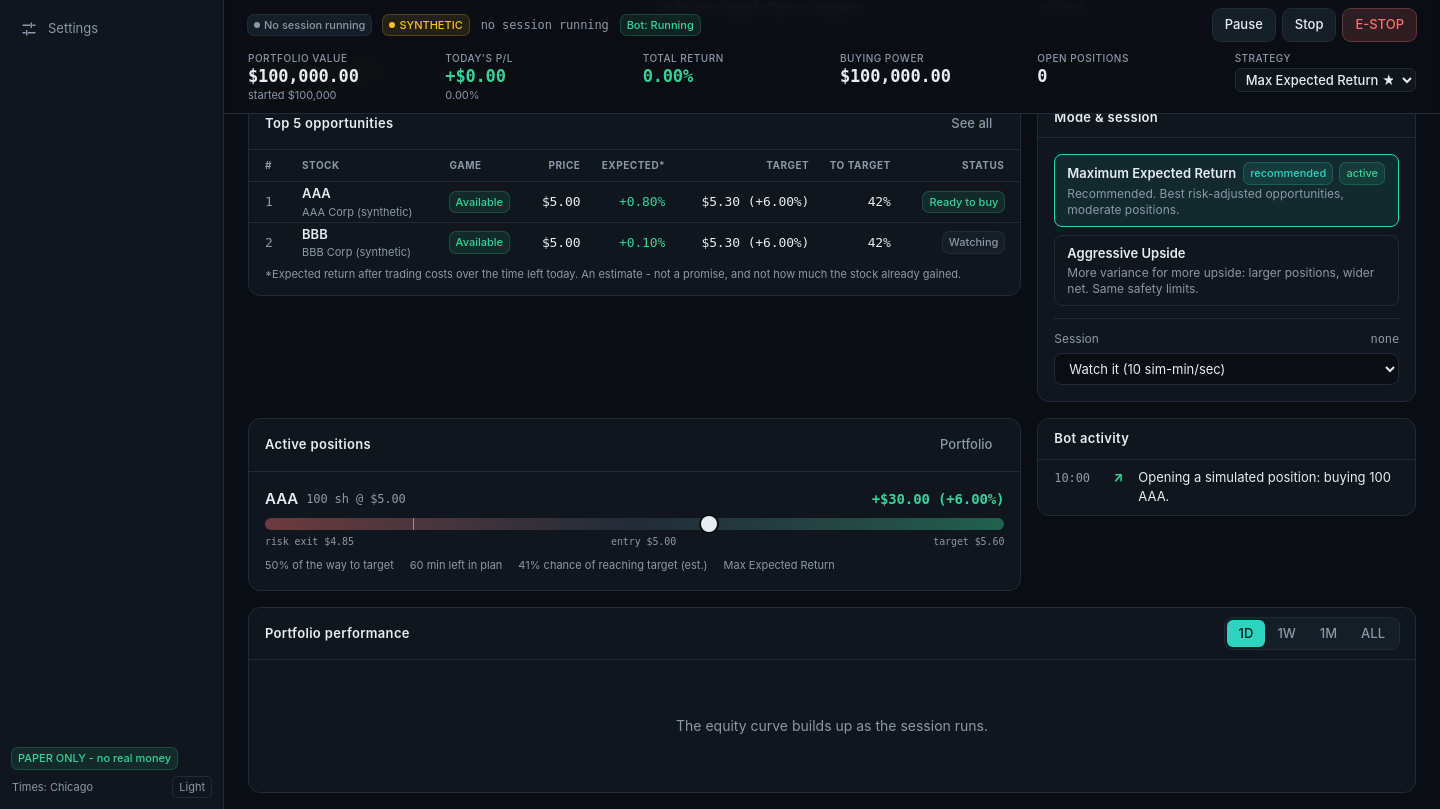
Scenario: dashboard › renders active positions with progress and opens an explanation drawer
(page scrolled)
Step 1. Click the text "50% of the way to target" → (329, 566), box 265,557 -> 394,574
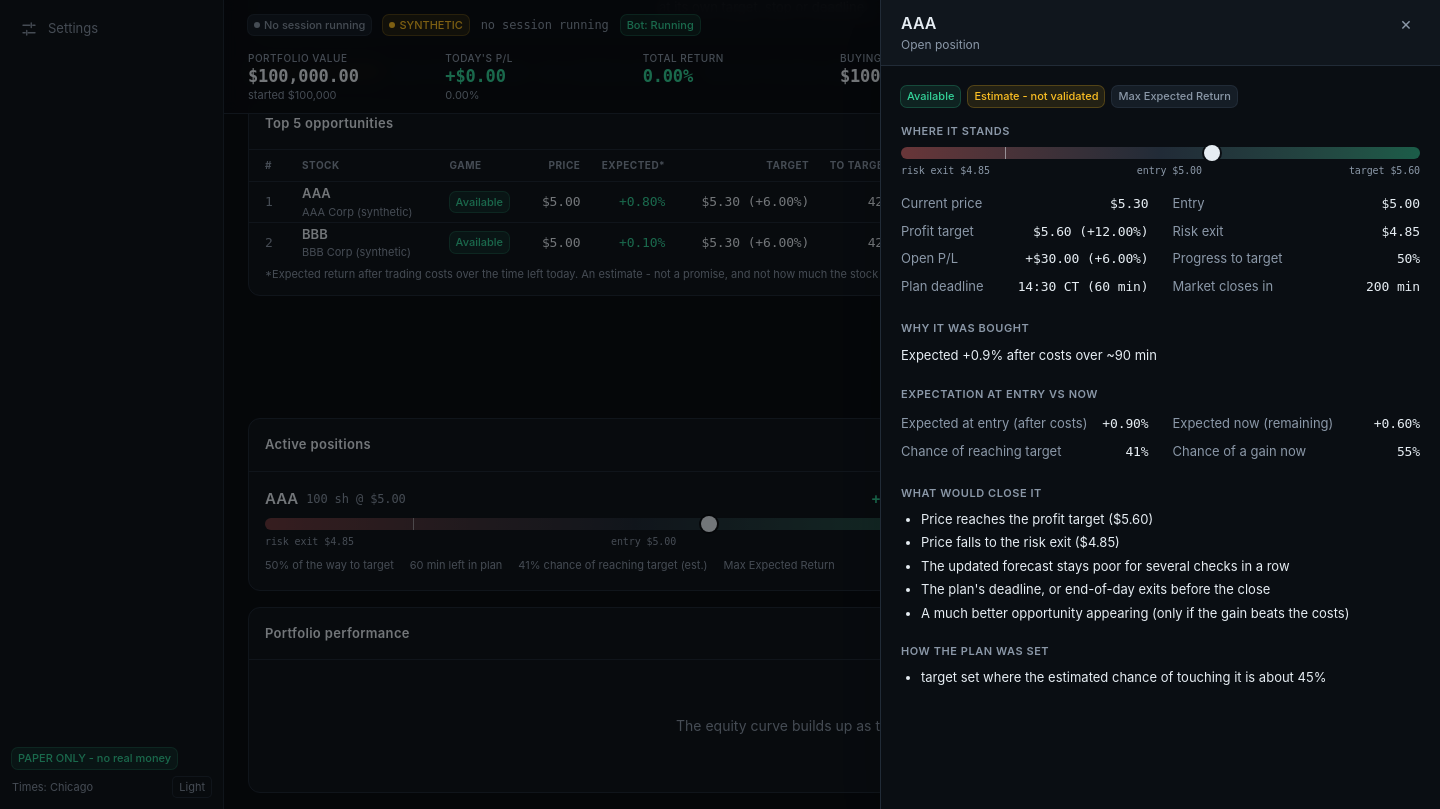
Result: the heading "Why it was bought" is shown at 901,321 -> 1029,335
Result: the text "Expected +0.9% after costs over ~90 min" is shown at 901,346 -> 1157,362
Result: the heading "What would close it" is shown at 901,486 -> 1042,500
